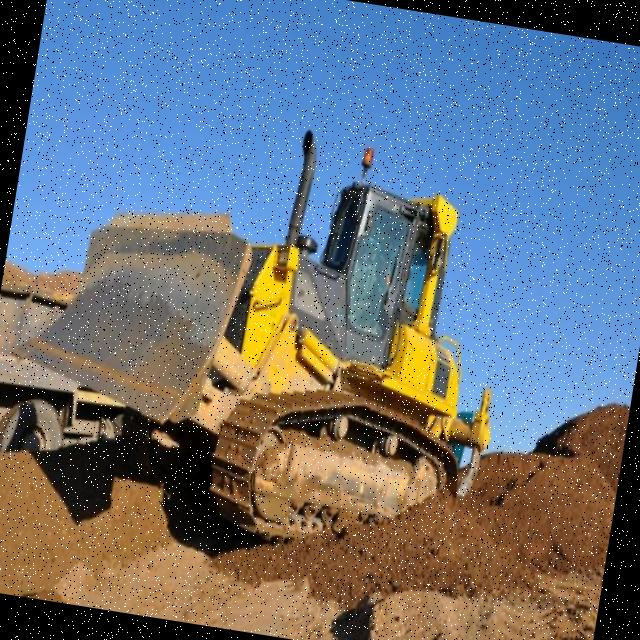Bulldozer: (0, 82, 544, 553)
